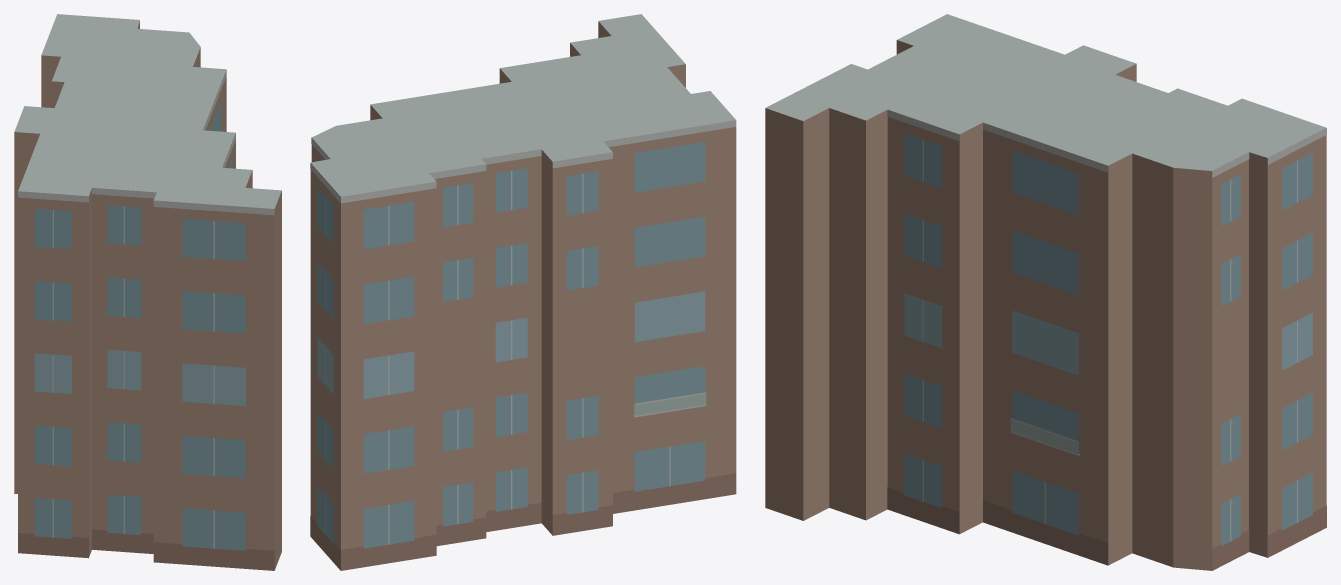
The model's file is survey-upis-32747862.glb.
3 views of the same model, side by side, from view 1: azimuth 30°, elevation 25°; view 2: azimuth 150°, elevation 25°; view 3: azimuth 270°, elevation 25° (orthographic). The views are drawn at different scales.
Visible parts, largest first — view 1: survey-upis-32747862.tmp; view 2: survey-upis-32747862.tmp; view 3: survey-upis-32747862.tmp.
Part boxes in pixels (<box>): survey-upis-32747862.tmp: <box>14,14,281,570</box>; survey-upis-32747862.tmp: <box>310,14,736,570</box>; survey-upis-32747862.tmp: <box>765,14,1326,570</box>.
Bounding box in the file's own units: 11.71 × 13.9 × 17.7.
